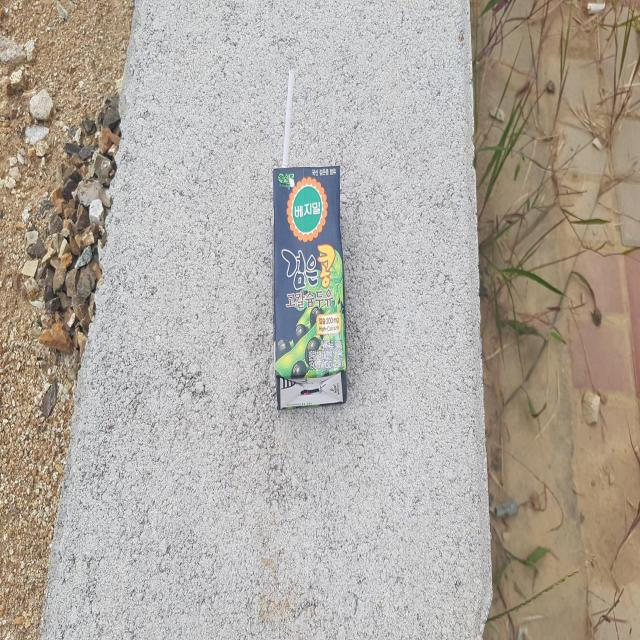paperpack: (273, 165, 347, 409)
